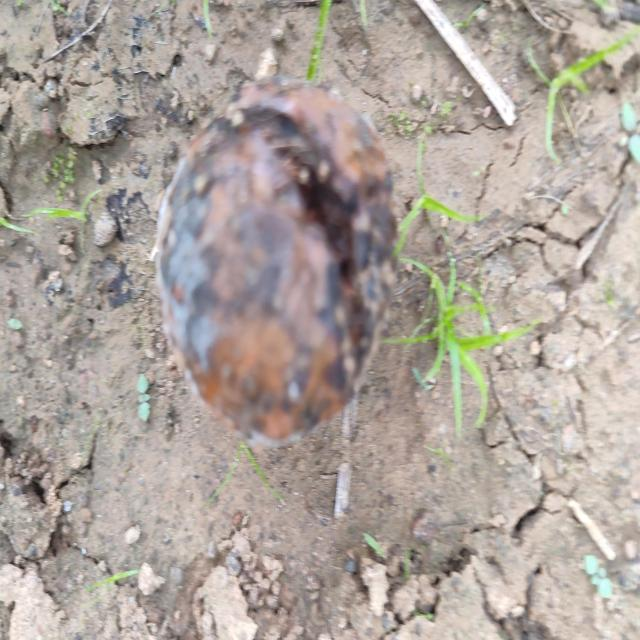damaged: (155, 77, 397, 443)
